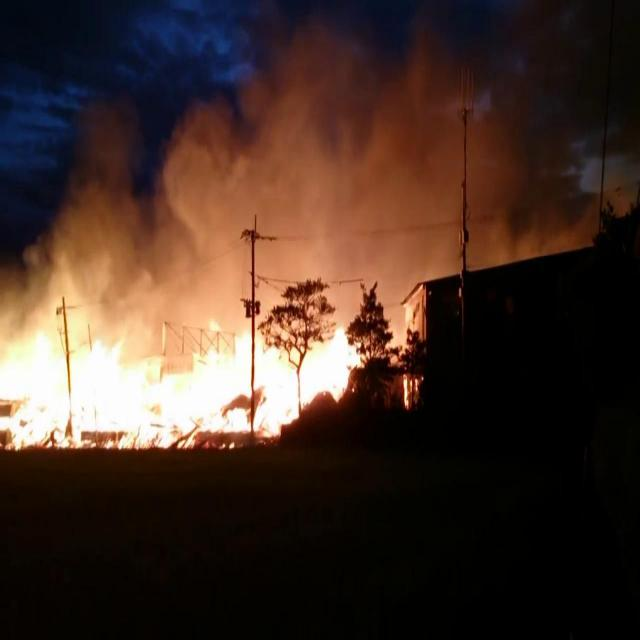fire: (3, 42, 590, 450)
